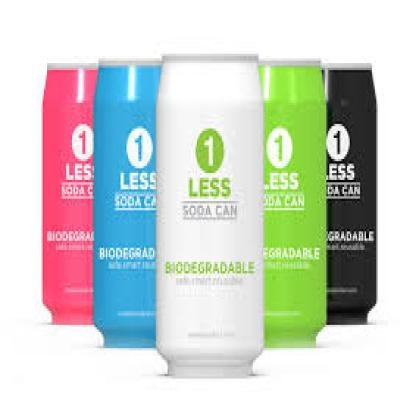trash: (156, 55, 262, 376), (260, 63, 326, 347), (94, 64, 159, 346), (43, 67, 96, 323), (327, 69, 375, 323)
